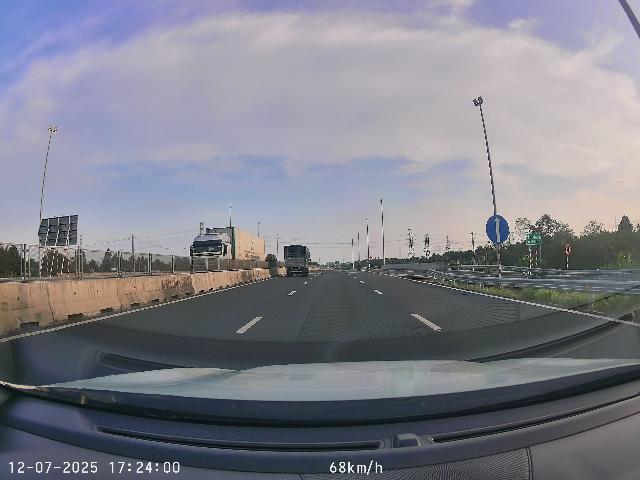301a-cac-xe-chi-duoc-di-thang: (486, 214, 510, 244)
